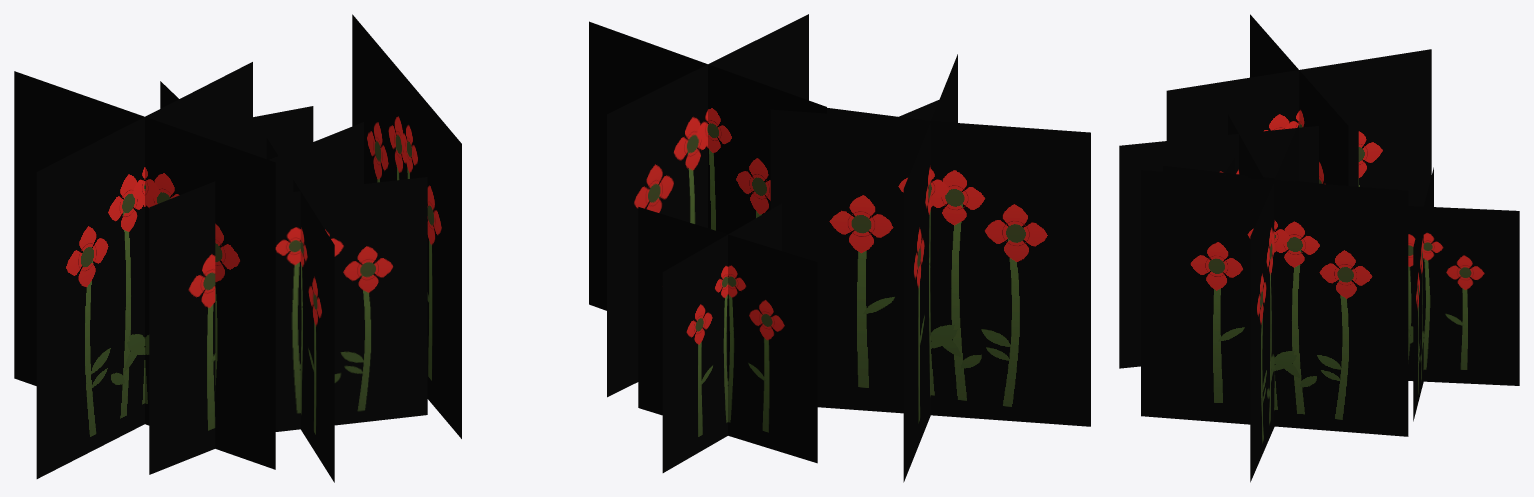
File: prop_flora_poppy.glb
The picture shows the model from 3 angles, left to right: view 1: azimuth 30°, elevation 25°; view 2: azimuth 150°, elevation 25°; view 3: azimuth 270°, elevation 25°; orthographic projection. The views are drawn at different scales.
Visible parts, largest first — view 1: poppy_2, poppy_4, poppy_3, poppy_0, poppy_1; view 2: poppy_2, poppy_0, poppy_1; view 3: poppy_0, poppy_2, poppy_1, poppy_3, poppy_4.
Boxes of the visible parts, x1=… form: poppy_2: x1=14, y1=62, x2=275, y2=478; poppy_4: x1=266, y1=138, x2=427, y2=482; poppy_3: x1=149, y1=122, x2=363, y2=474; poppy_0: x1=352, y1=14, x2=461, y2=438; poppy_1: x1=160, y1=81, x2=313, y2=159; poppy_2: x1=770, y1=54, x2=1090, y2=482; poppy_0: x1=589, y1=14, x2=826, y2=397; poppy_1: x1=638, y1=203, x2=817, y2=472; poppy_0: x1=1141, y1=125, x2=1408, y2=482; poppy_2: x1=1166, y1=14, x2=1431, y2=206; poppy_1: x1=1408, y1=167, x2=1519, y2=421; poppy_3: x1=1119, y1=115, x2=1358, y2=368; poppy_4: x1=1163, y1=159, x2=1320, y2=183.
Size of the model in its own units: 0.6889 by 0.3861 by 0.5475.
Materials: 1 (1 with a texture image).
